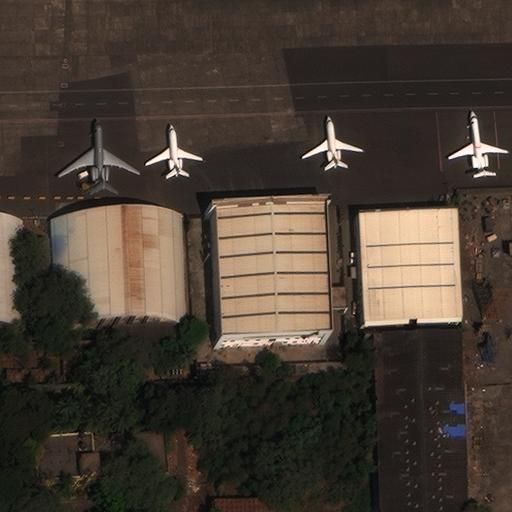Medium Civil Transport: (57, 118, 140, 190), (448, 111, 506, 176), (301, 116, 362, 165), (145, 124, 201, 174)
